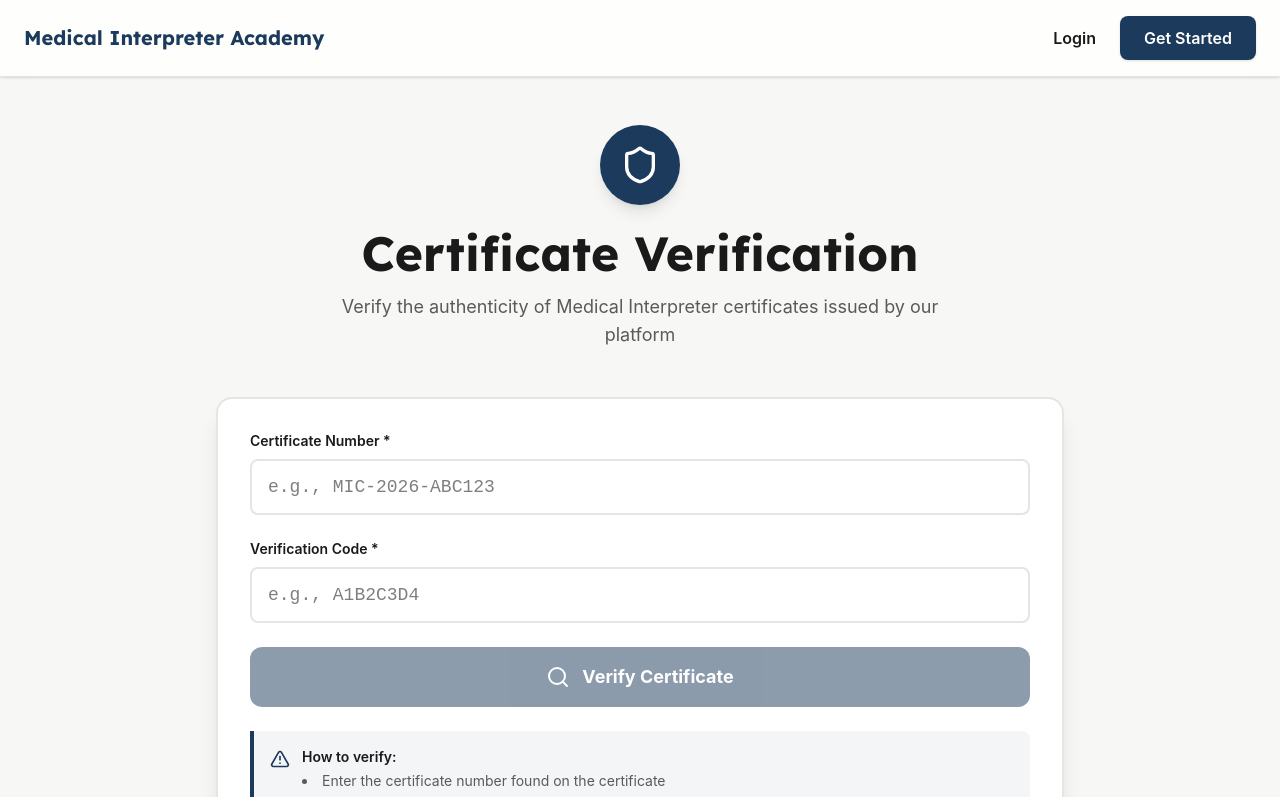
Test case: VerifyCertificate Page › Verification Form › should enable button when both fields filled
In the field with placeholder "e.g., MIC-2026-ABC123": (640, 487) [250,459,1030,515], type "MIC-2024-001"
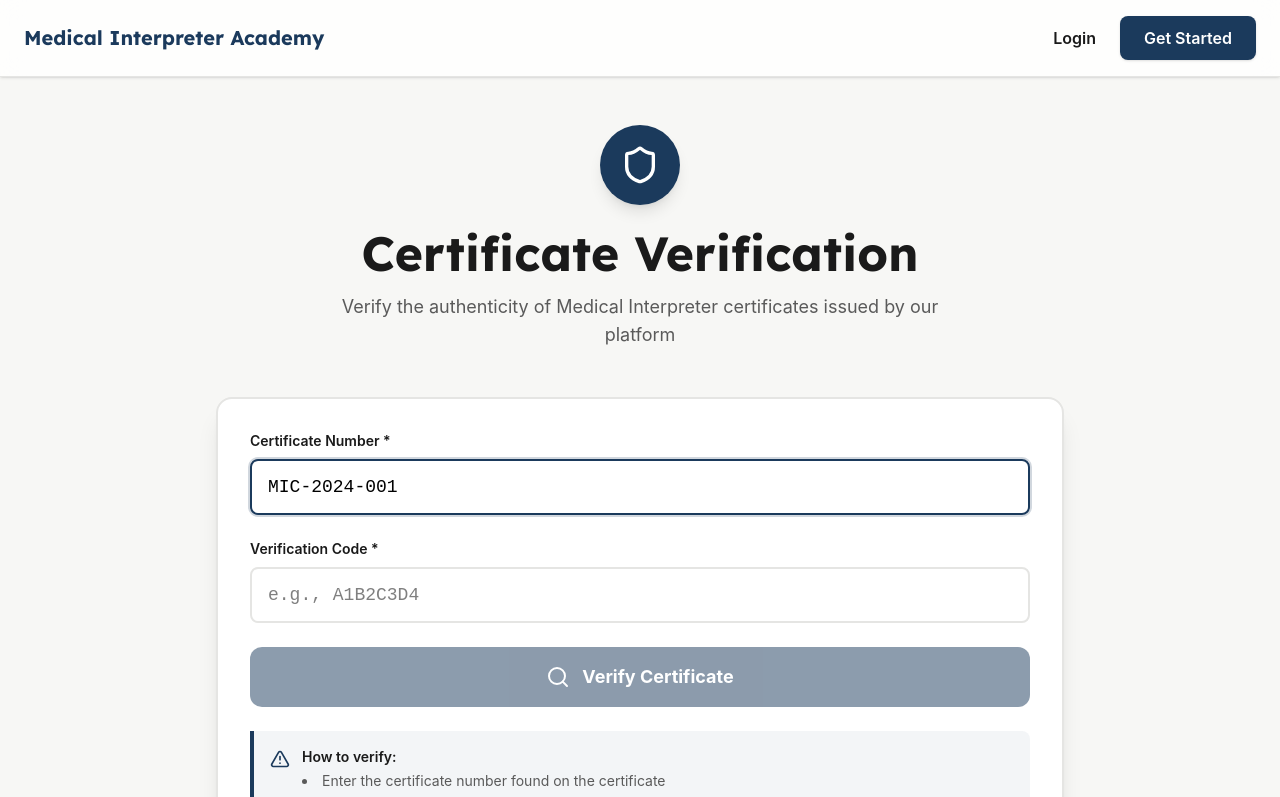
In the field with placeholder "e.g., A1B2C3D4": (640, 595) [250,567,1030,623], type "ABC123"
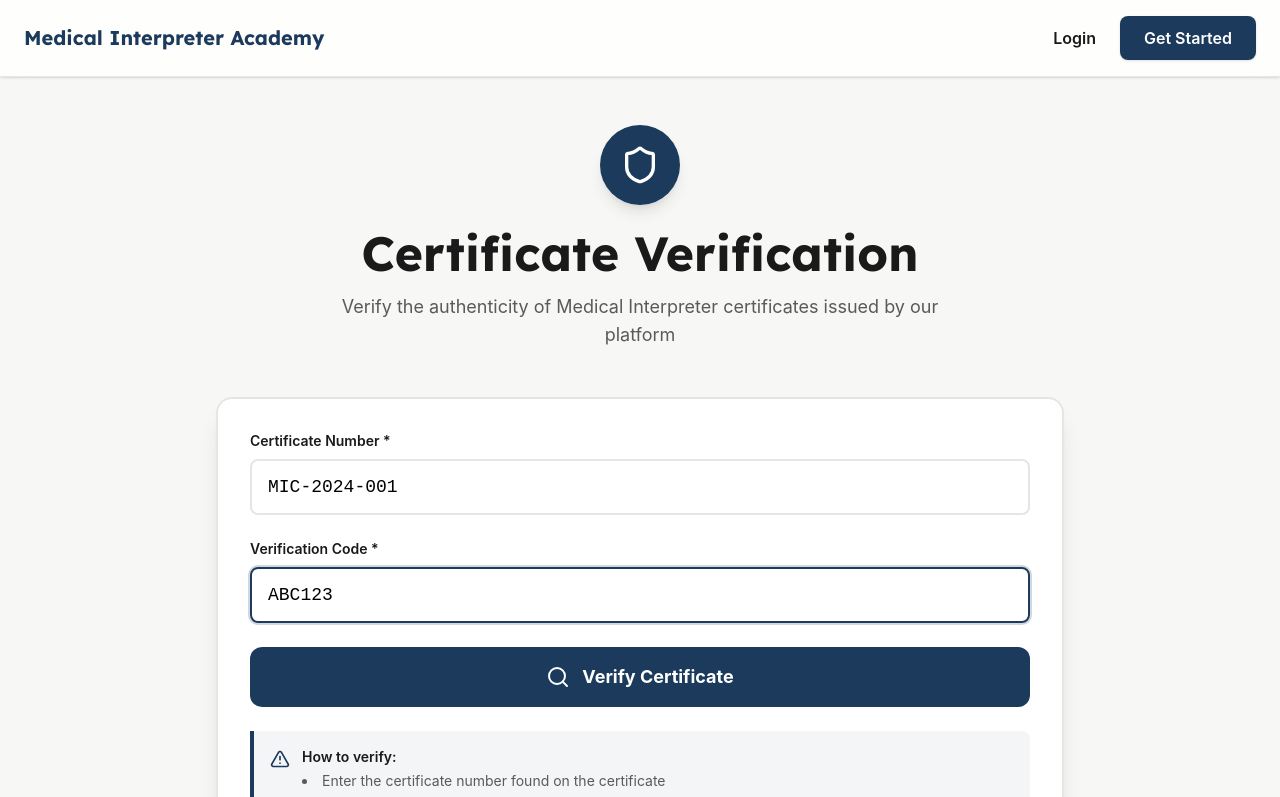
Expected: the button "Verify Certificate" is enabled, [250,647,1030,707]
